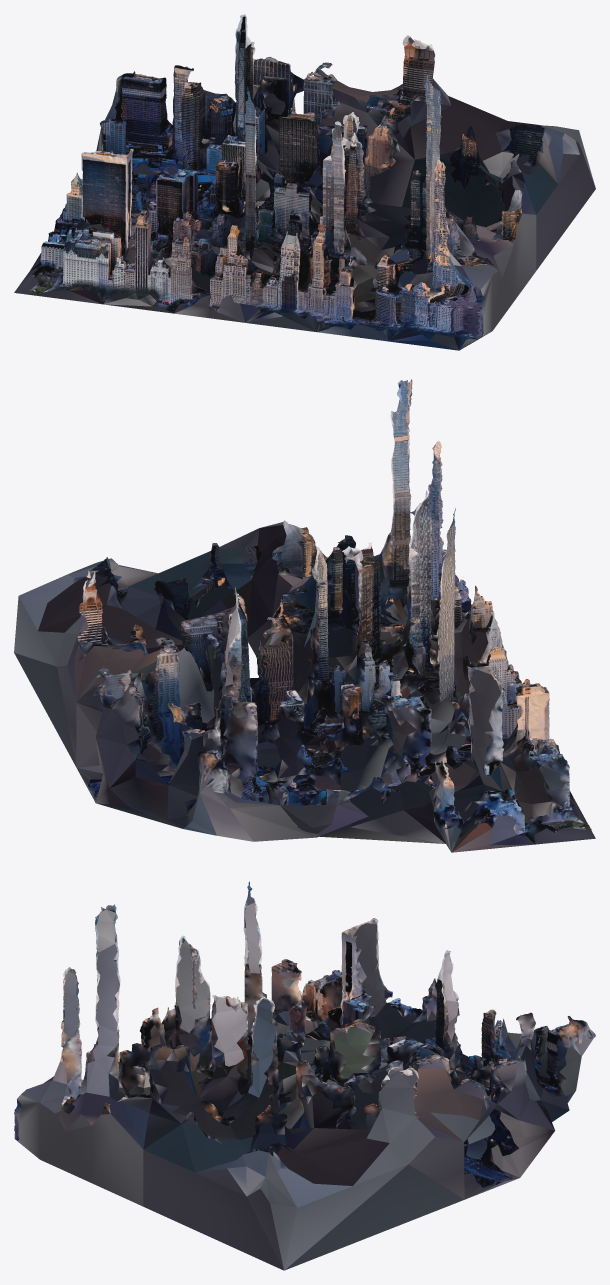
File: sf-central-park-1634f4.glb
3 views of the same model, one above another, from view 1: azimuth 30°, elevation 25°; view 2: azimuth 150°, elevation 25°; view 3: azimuth 270°, elevation 25° (orthographic). The views are drawn at different scales.
Visible parts, largest first — view 1: centralpark_centralpark_u1_v1_0, centralpark_centralpark_u2_v1_0; view 2: centralpark_centralpark_u1_v1_0, centralpark_centralpark_u2_v1_0; view 3: centralpark_centralpark_u1_v1_0, centralpark_centralpark_u2_v1_0.
Boxes of the visible parts, x1,y1,x2,y2 form: centralpark_centralpark_u1_v1_0: [14, 14, 595, 350]; centralpark_centralpark_u2_v1_0: [30, 14, 543, 349]; centralpark_centralpark_u1_v1_0: [14, 379, 595, 852]; centralpark_centralpark_u2_v1_0: [73, 380, 590, 843]; centralpark_centralpark_u1_v1_0: [14, 883, 595, 1270]; centralpark_centralpark_u2_v1_0: [14, 881, 594, 1168].
Bounding box in the file's own units: 357 × 149 × 326.
Materials: 2 (2 with a texture image).
